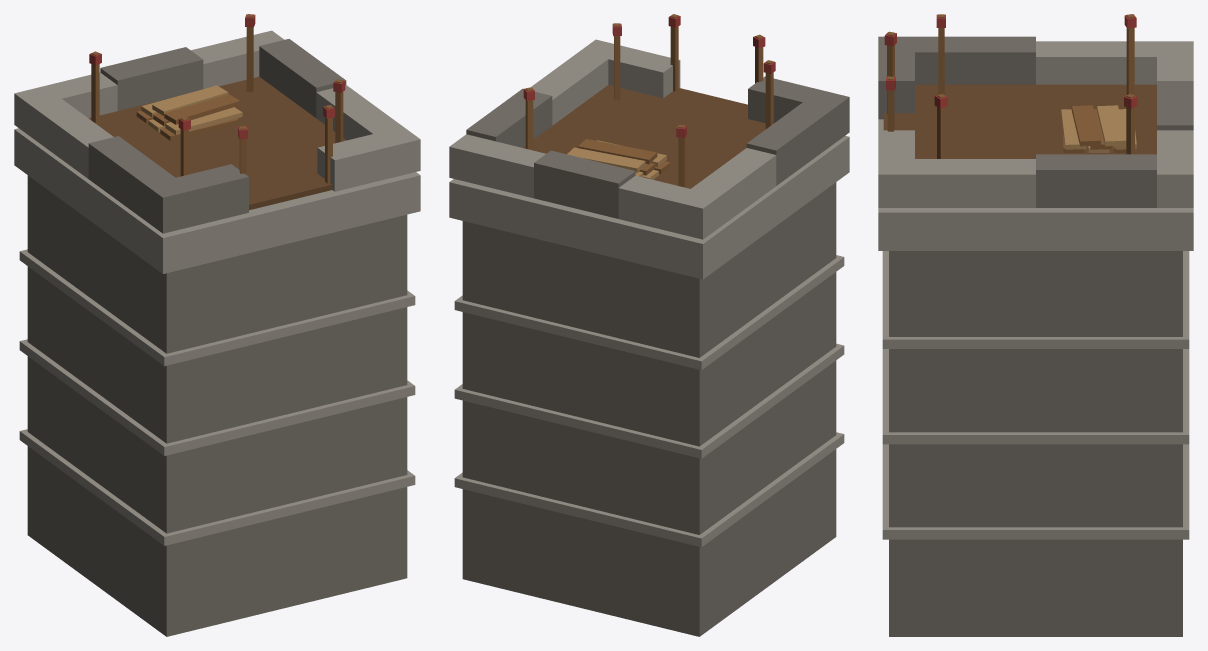
File: site_3x3_1.glb
The picture shows the model from 3 angles, left to right: view 1: azimuth 30°, elevation 25°; view 2: azimuth 150°, elevation 25°; view 3: azimuth 270°, elevation 25°; orthographic projection. The views are drawn at different scales.
Parts seen in each view (by area): view 1: site_3x3_1; view 2: site_3x3_1; view 3: site_3x3_1.
Part boxes in pixels (bbox=[...]): site_3x3_1: bbox=[14, 14, 420, 636]; site_3x3_1: bbox=[449, 14, 849, 636]; site_3x3_1: bbox=[878, 14, 1193, 636].
Bounding box in the file's own units: 3 × 5.45 × 3.
